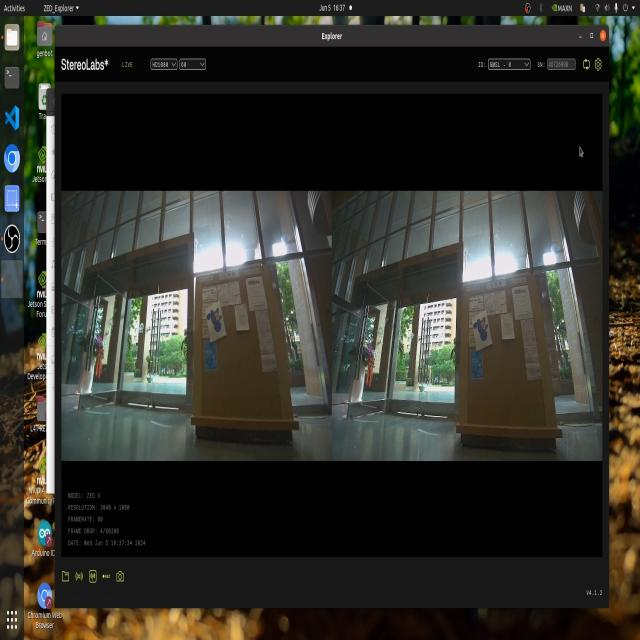blue: (204, 303, 227, 340), (473, 309, 493, 351)
